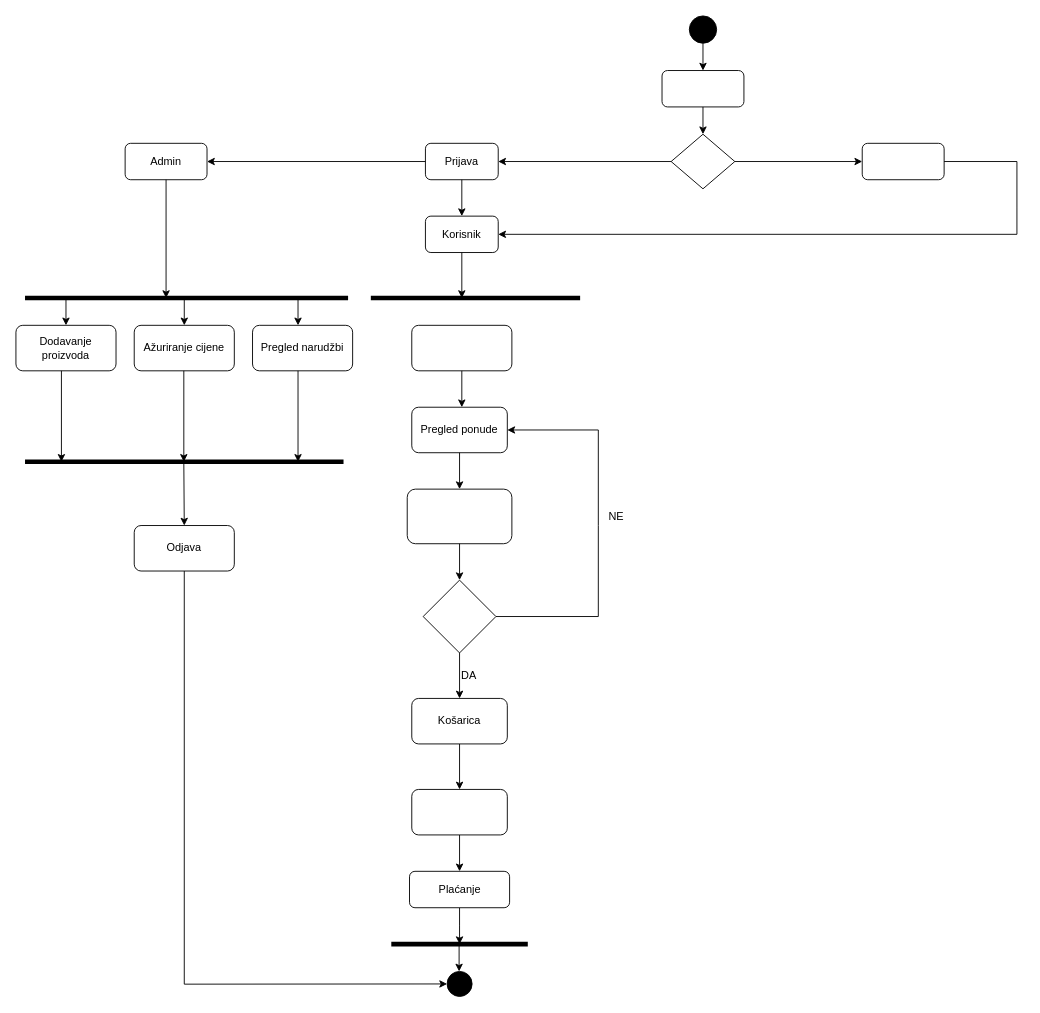
This 1040x1013 diagram has some shape labels left out. Each missing label, with the centre of its shape:
"Narudžba" belongs at point 459,812.
"Odabir kategorije" belongs at point 461,347.
"Odabir proizvoda" belongs at point 459,516.
"Početna stranica" belongs at point 702,88.
"Registracija" belongs at point 902,161.
